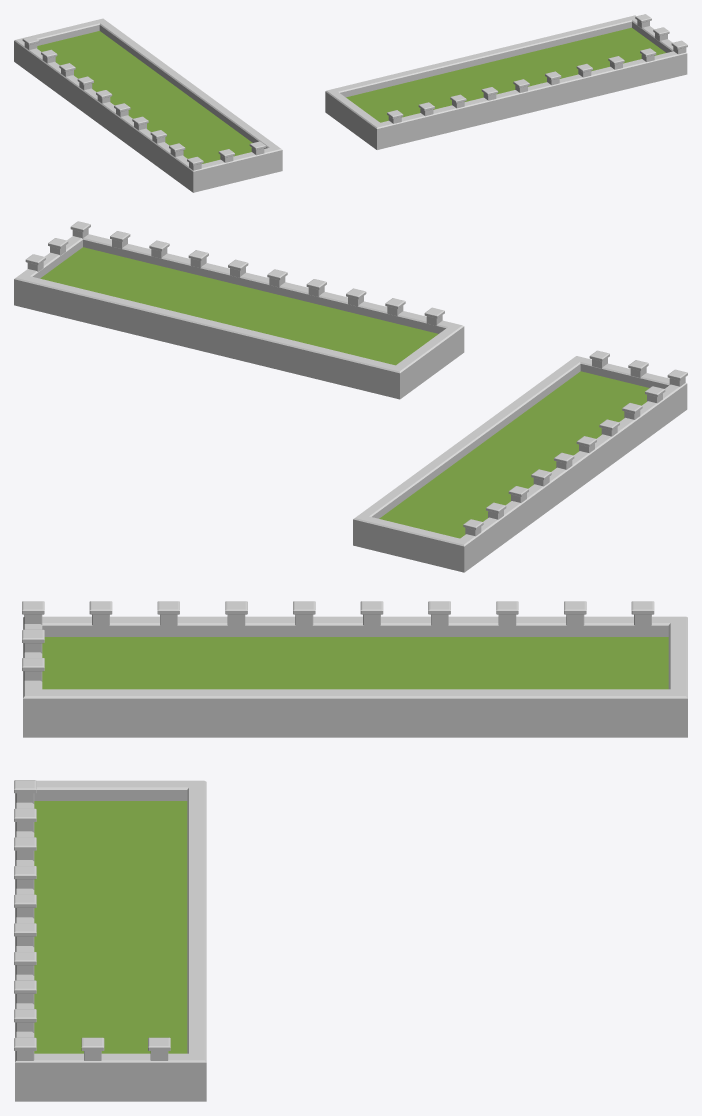
The model's file is JardimEntrada.fbx.
3 renders of one model, top to bottom at view 1: azimuth 30°, elevation 25°; view 2: azimuth 150°, elevation 25°; view 3: azimuth 270°, elevation 25°, orthographic. The views are drawn at different scales.
Visible parts, largest first — view 1: Jardim; view 2: Jardim; view 3: Jardim.
Boxes of the visible parts, bbox=[...] form: Jardim: bbox=[14, 14, 687, 192]; Jardim: bbox=[14, 221, 687, 572]; Jardim: bbox=[14, 601, 687, 1101].
Size of the model in its own units: 1101 by 63.79 by 703.
